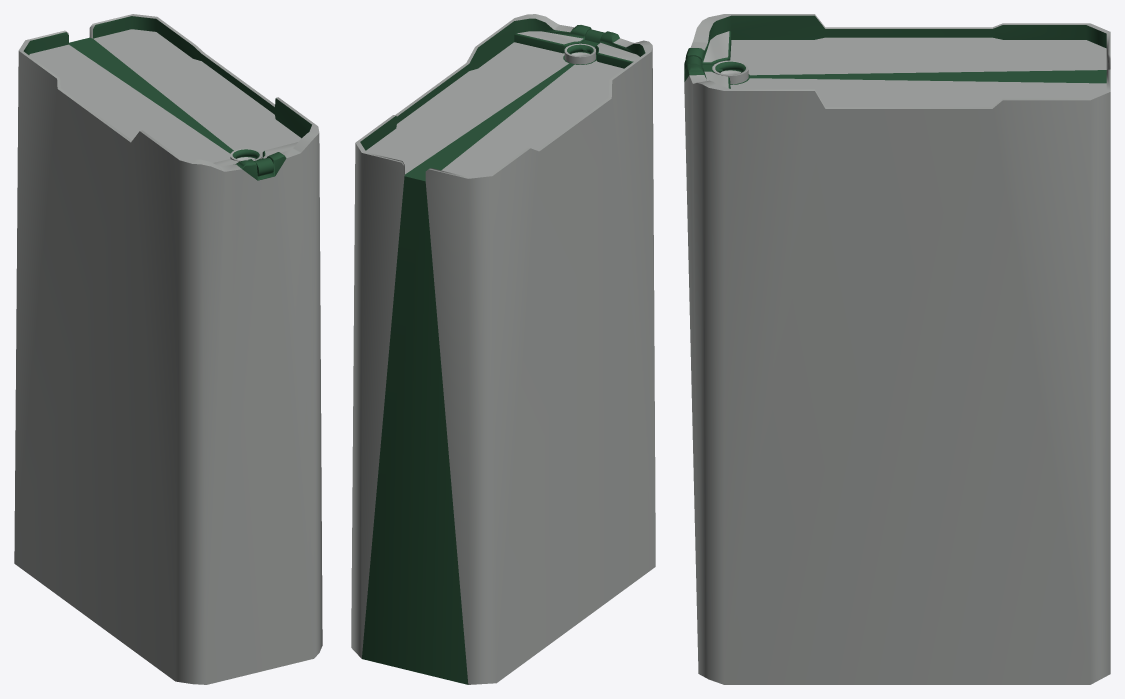
Rendered from Arena_round_door_simple.fbx.
The picture shows the model from 3 angles, left to right: view 1: azimuth 30°, elevation 25°; view 2: azimuth 150°, elevation 25°; view 3: azimuth 270°, elevation 25°; orthographic projection. The views are drawn at different scales.
Parts seen in each view (by area): view 1: arena, door; view 2: arena, door; view 3: arena, door.
Boxes of the visible parts, box(x1,y1,x2,y2) form: arena: box(14, 14, 322, 684); door: box(230, 148, 273, 176); arena: box(351, 14, 655, 684); door: box(564, 29, 604, 64); arena: box(684, 14, 1110, 684); door: box(684, 56, 748, 84).
Size of the model in its own units: 912 by 3081 by 2013.
